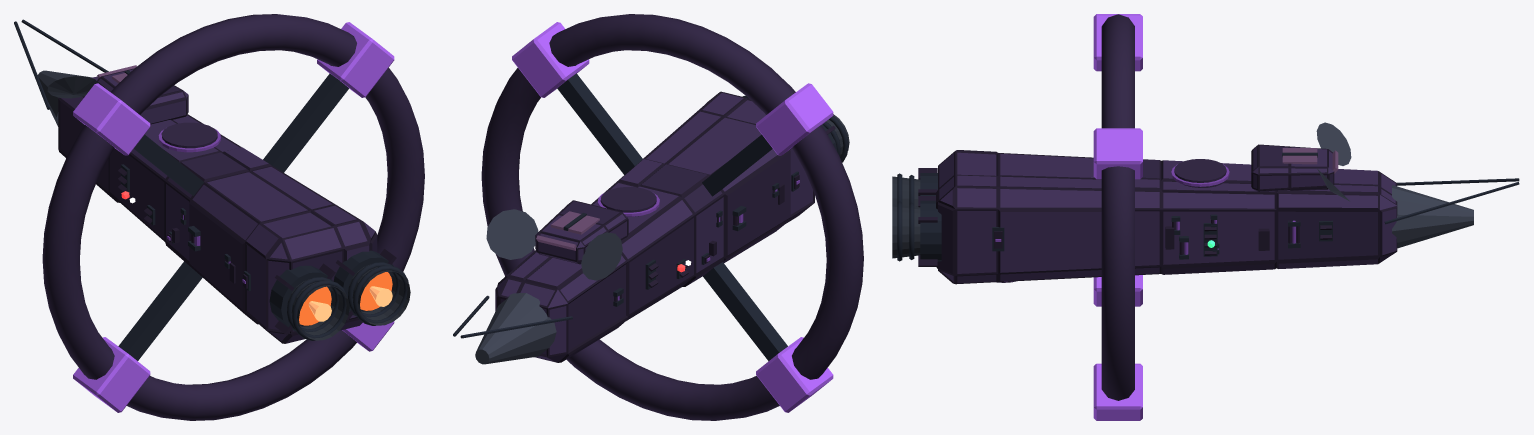
The model's file is nyx.glb.
The picture shows the model from 3 angles, left to right: view 1: azimuth 30°, elevation 25°; view 2: azimuth 150°, elevation 25°; view 3: azimuth 270°, elevation 25°; orthographic projection. The views are drawn at different scales.
Visible parts, largest first — view 1: ring_mesh, nyx_mesh; view 2: ring_mesh, nyx_mesh; view 3: nyx_mesh, ring_mesh.
Part boxes in pixels (x1,y1,x2,y2): ring_mesh: (42, 14, 424, 420); nyx_mesh: (14, 19, 410, 343); ring_mesh: (481, 14, 863, 420); nyx_mesh: (453, 91, 849, 364); nyx_mesh: (892, 122, 1519, 284); ring_mesh: (1093, 14, 1142, 420).
Size of the model in its own units: 7.44 by 7.44 by 11.46.
